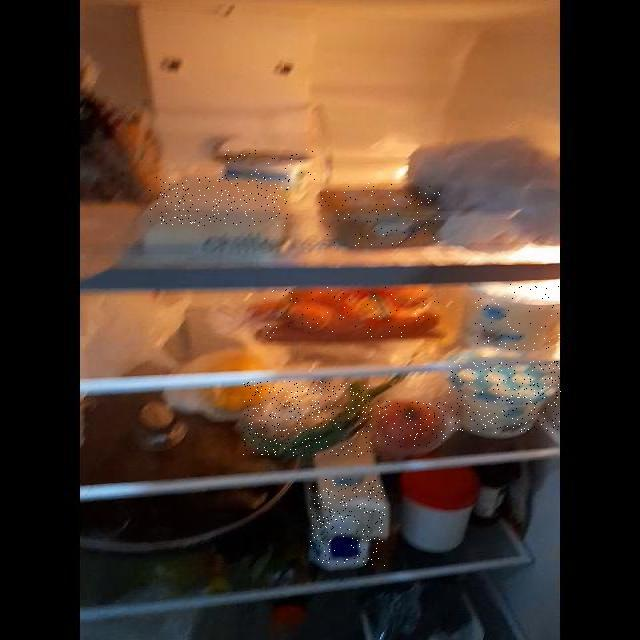butter: (317, 183, 440, 246)
carrot: (263, 287, 439, 339)
cheese: (149, 177, 290, 226)
green chilies: (242, 381, 372, 457)
milk: (309, 479, 386, 566)
tomato: (376, 401, 446, 447)
yoghurt: (449, 361, 561, 433), (474, 284, 560, 351), (219, 149, 317, 180)
